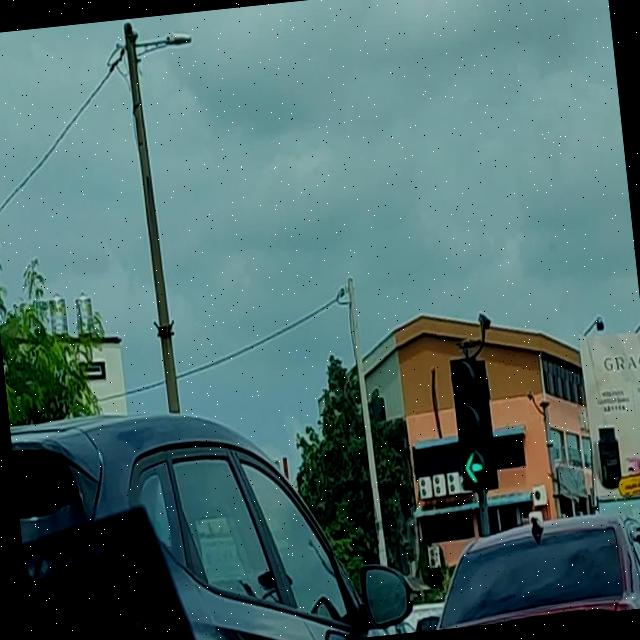green_light: (449, 358, 490, 492)
